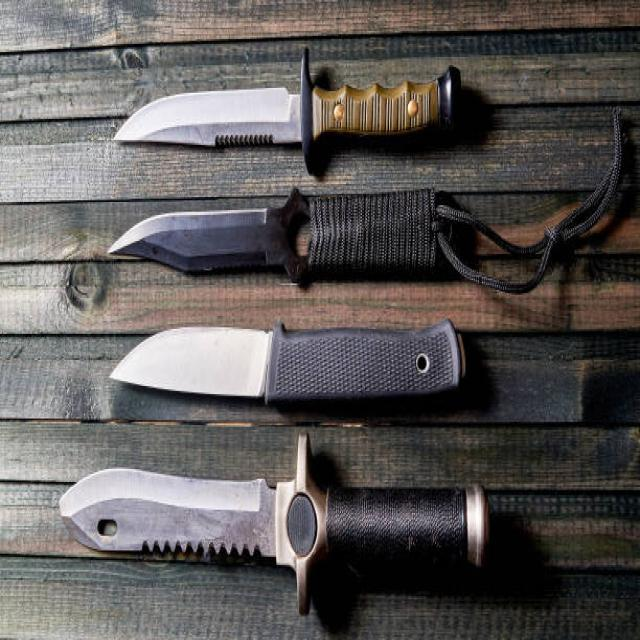Knife: (54, 425, 520, 621), (101, 180, 487, 314), (102, 54, 490, 178), (106, 314, 478, 434)
